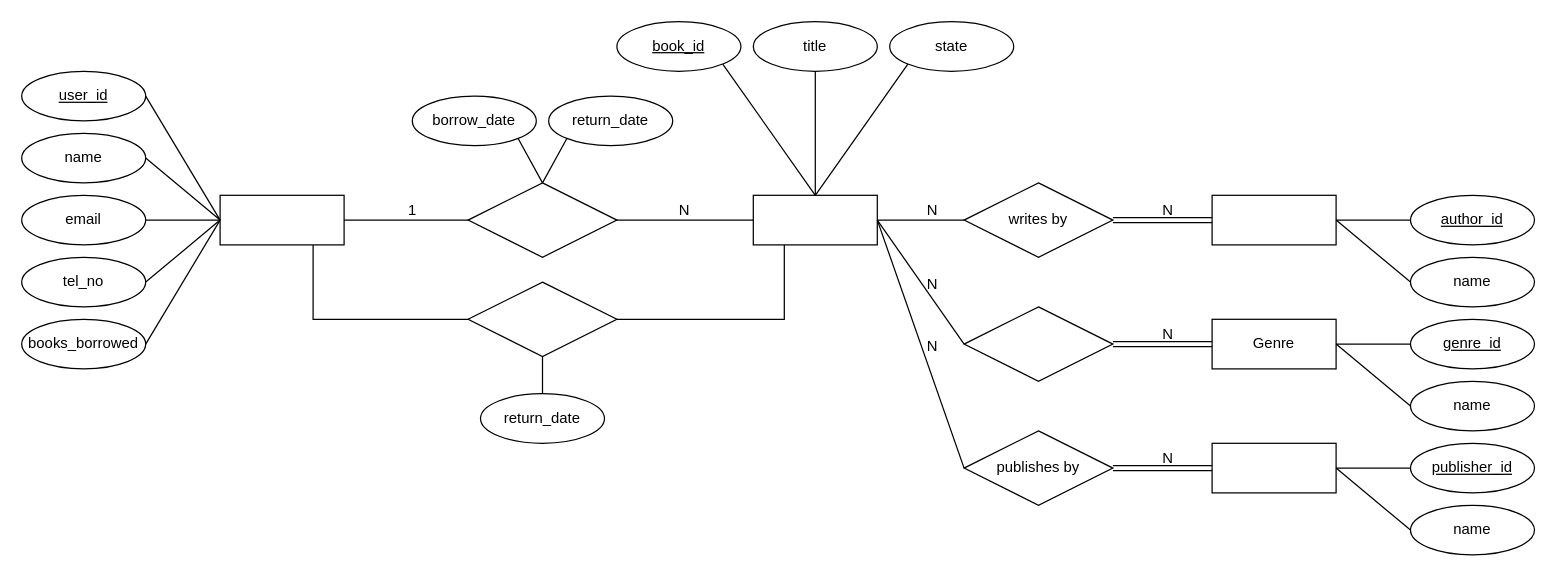
This 1556x577 diagram has some shape labels left out. The box of each missing label's shape, as (x1, y1, x2, y2) in pixels:
Author: (1211, 194, 1336, 245)
Book: (752, 194, 877, 245)
borrows: (467, 182, 617, 257)
has a: (963, 306, 1113, 381)
Publisher: (1211, 442, 1336, 493)
returns: (467, 281, 617, 356)
User: (219, 194, 344, 245)
